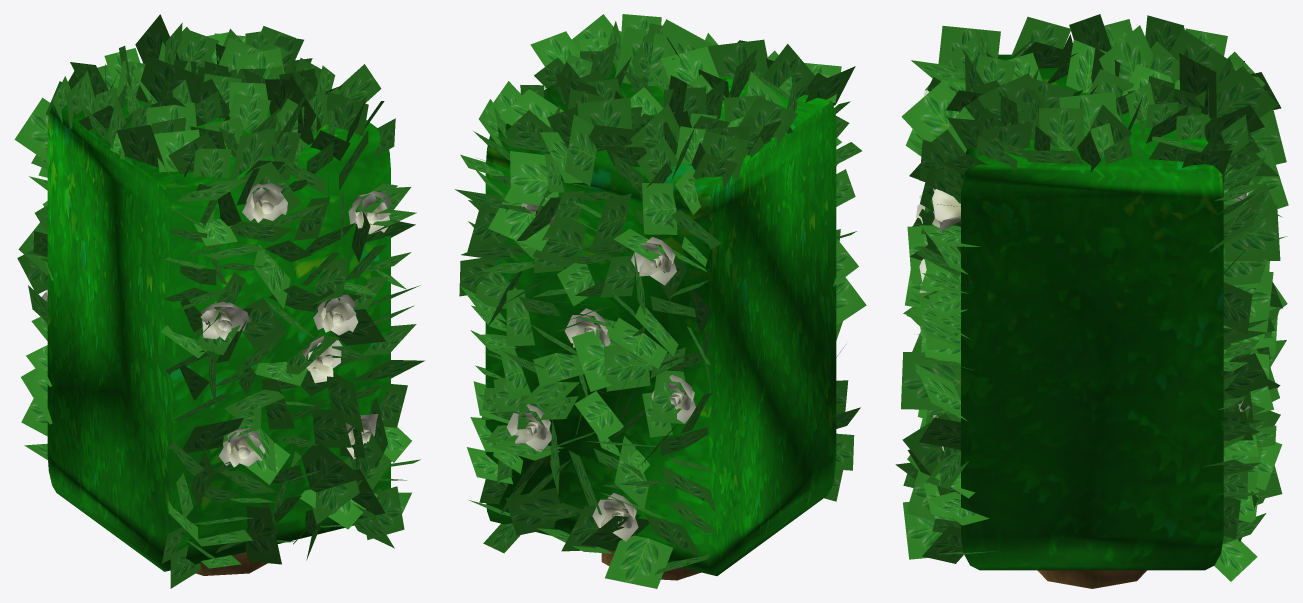
Rendered from sb_obj_outdoor012_Hedge03c.fbx.
3 renders of one model, left to right at view 1: azimuth 30°, elevation 25°; view 2: azimuth 150°, elevation 25°; view 3: azimuth 270°, elevation 25°, orthographic. The views are drawn at different scales.
Parts seen in each view (by area): view 1: leaf_plus_c, sb_obj_outdoor012_Hedge01c, 立方体.022, 立方体.027, 立方体.026, 立方体.024, 立方体.025, 立方体.023, 立方体.028; view 2: leaf_plus_c, sb_obj_outdoor012_Hedge01c, rose_base.067, rose_base.071, rose_base.072, rose_base.068, rose_base.070; view 3: sb_obj_outdoor012_Hedge01c, leaf_plus_c, 立方体.025.
Boxes of the visible parts, x1=… form: leaf_plus_c: x1=14, y1=14, x2=424, y2=588; sb_obj_outdoor012_Hedge01c: x1=47, y1=70, x2=390, y2=575; 立方体.022: x1=313, y1=294, x2=358, y2=335; 立方体.027: x1=200, y1=301, x2=250, y2=340; 立方体.026: x1=242, y1=183, x2=287, y2=222; 立方体.024: x1=218, y1=428, x2=265, y2=467; 立方体.025: x1=348, y1=191, x2=391, y2=234; 立方体.023: x1=302, y1=336, x2=342, y2=383; 立方体.028: x1=345, y1=414, x2=384, y2=458; leaf_plus_c: x1=455, y1=14, x2=866, y2=588; sb_obj_outdoor012_Hedge01c: x1=485, y1=62, x2=836, y2=580; rose_base.067: x1=631, y1=237, x2=676, y2=285; rose_base.071: x1=592, y1=493, x2=638, y2=541; rose_base.072: x1=506, y1=404, x2=551, y2=451; rose_base.068: x1=564, y1=308, x2=610, y2=347; rose_base.070: x1=651, y1=375, x2=695, y2=423; sb_obj_outdoor012_Hedge01c: x1=961, y1=54, x2=1223, y2=588; leaf_plus_c: x1=895, y1=14, x2=1288, y2=581; 立方体.025: x1=932, y1=188, x2=960, y2=232.
Bounding box in the file's own units: 1.25 × 2.15 × 1.5.
